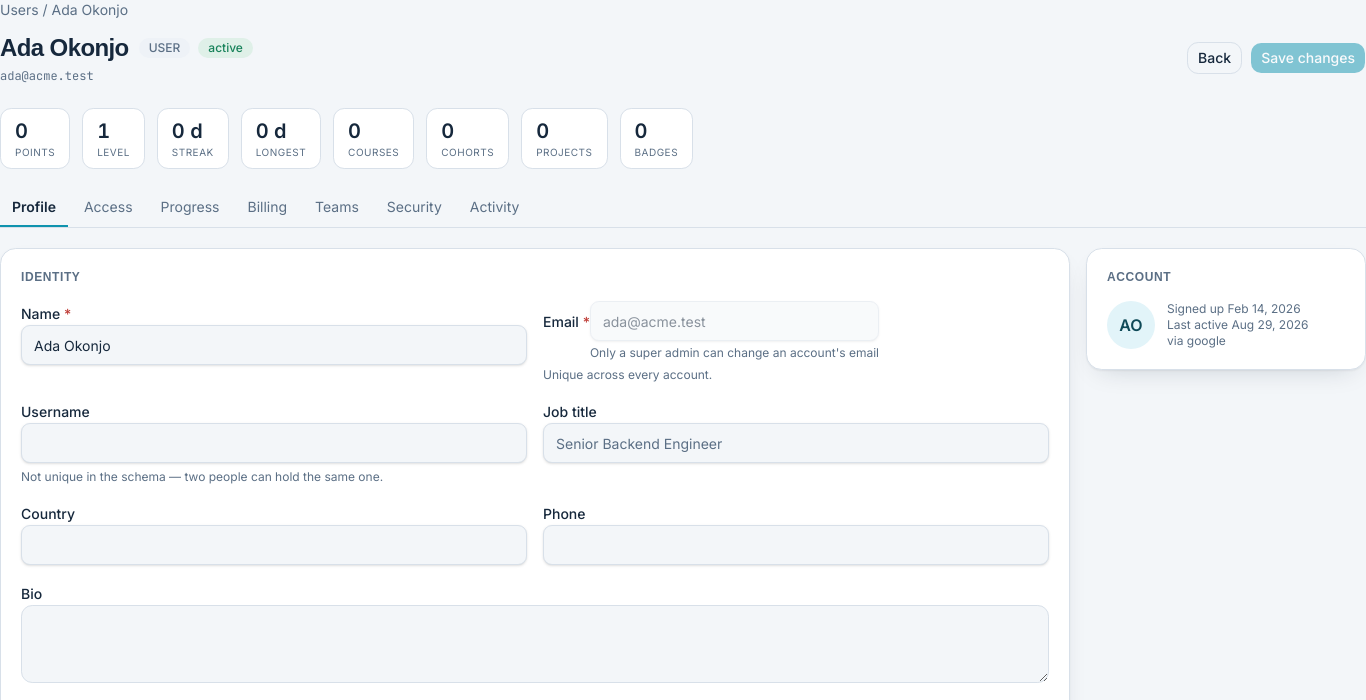
the billing tab › lists ledger transactions with the processor reference
Click the tab "Billing".
click(267, 208)  # box [236,189,299,227]
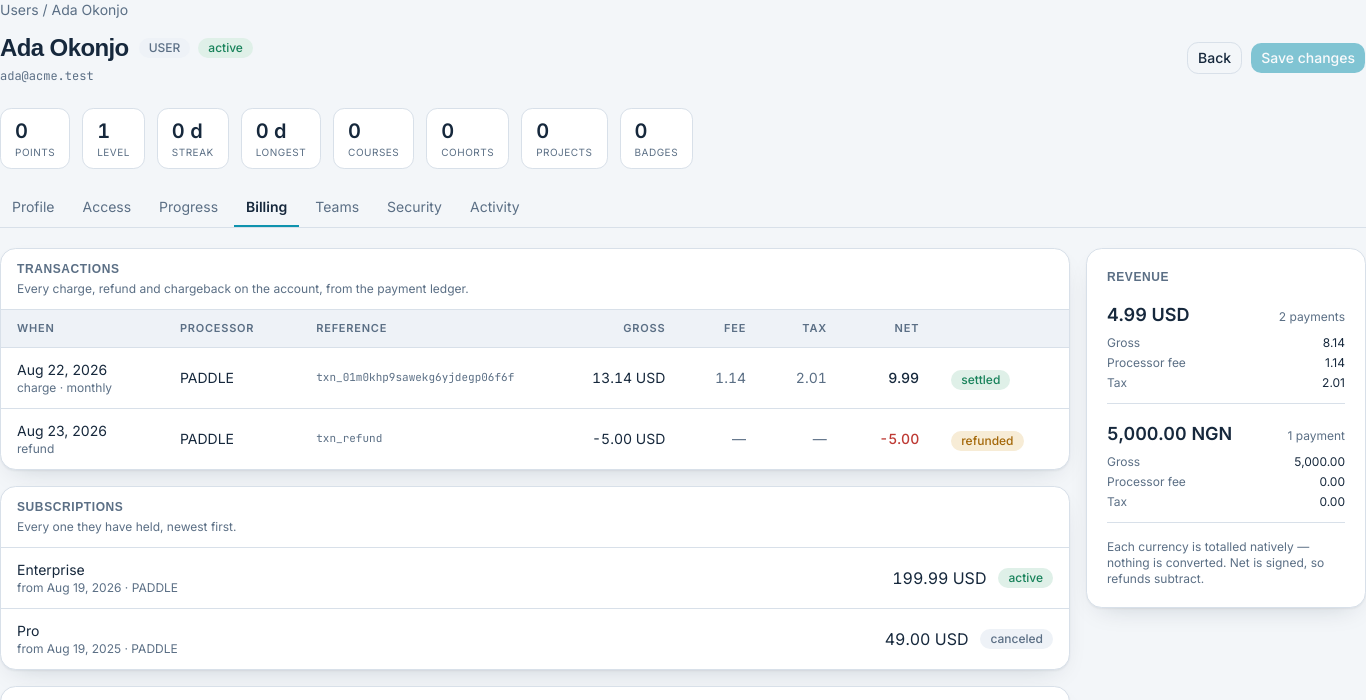
Expected: the text "txn_01m0khp9sawekg6yjdegp06f6f" is shown, [300,347,546,408]
Expected: the text "PADDLE" in the row of "Aug 22, 2026" is shown, [180,368,234,386]
